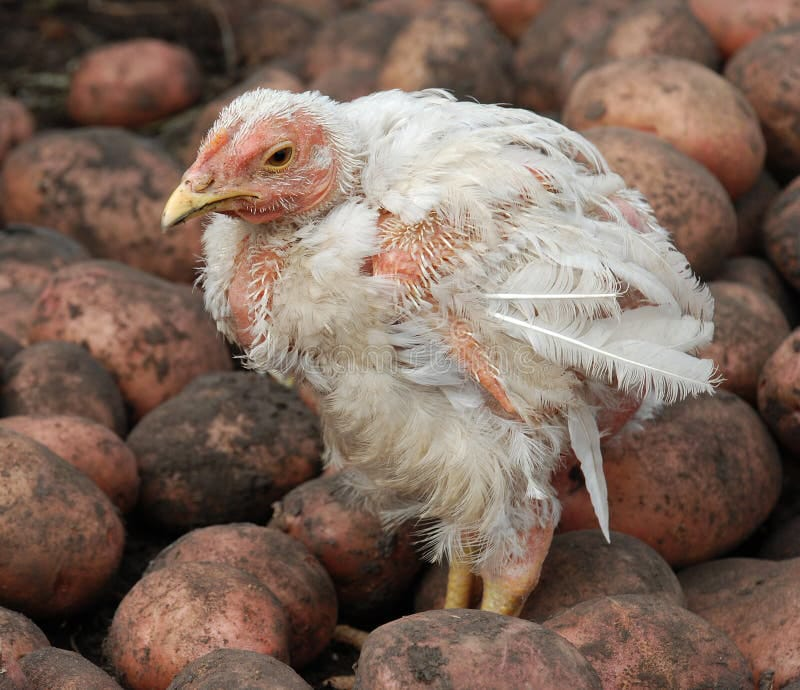Unhealthy: (139, 70, 740, 621)
